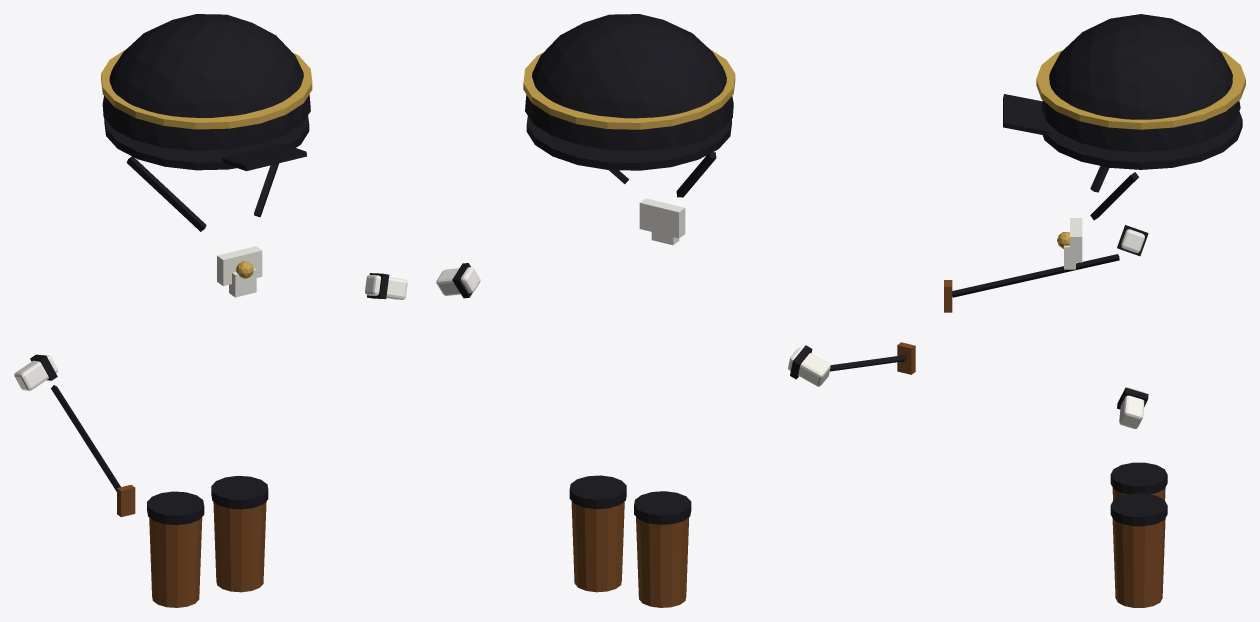
Rendered from Outfit_Horse.fbx.
The picture shows the model from 3 angles, left to right: view 1: azimuth 30°, elevation 25°; view 2: azimuth 150°, elevation 25°; view 3: azimuth 270°, elevation 25°; orthographic projection.
Parts seen in each view (by area): view 1: RidingHat__Head, BootR__shin.R, BootL__shin.L, Cravat__spine.004, Crop__hand.R, GloveR__hand.R.004, GloveL__hand.L.004; view 2: RidingHat__Head, BootL__shin.L, BootR__shin.R, Cravat__spine.004, GloveR__hand.R.004, GloveL__hand.L.004, Crop__hand.R; view 3: RidingHat__Head, BootL__shin.L, BootR__shin.R, Crop__hand.R, GloveL__hand.L.004, Cravat__spine.004, GloveR__hand.R.004.
Boxes of the visible parts, left/top/right/bottom form: RidingHat__Head: left=101, top=14, right=312, bottom=231; BootR__shin.R: left=147, top=491, right=204, bottom=607; BootL__shin.L: left=211, top=476, right=268, bottom=592; Cravat__spine.004: left=217, top=246, right=262, bottom=297; Crop__hand.R: left=51, top=385, right=135, bottom=517; GloveR__hand.R.004: left=14, top=354, right=57, bottom=390; GloveL__hand.L.004: left=365, top=273, right=407, bottom=299; RidingHat__Head: left=523, top=14, right=735, bottom=197; BootL__shin.L: left=569, top=475, right=626, bottom=592; BootR__shin.R: left=634, top=491, right=691, bottom=607; Cravat__spine.004: left=639, top=198, right=685, bottom=245; GloveR__hand.R.004: left=788, top=345, right=830, bottom=386; GloveL__hand.L.004: left=436, top=263, right=480, bottom=298; Crop__hand.R: left=829, top=342, right=915, bottom=374; RidingHat__Head: left=1003, top=14, right=1245, bottom=220; BootL__shin.L: left=1110, top=493, right=1167, bottom=607; BootR__shin.R: left=1110, top=462, right=1167, bottom=500; Crop__hand.R: left=944, top=254, right=1119, bottom=312; GloveL__hand.L.004: left=1117, top=387, right=1148, bottom=428; Cravat__spine.004: left=1057, top=218, right=1082, bottom=269; GloveR__hand.R.004: left=1117, top=225, right=1148, bottom=256.
Bounding box in the file's own units: 1.08 × 1.52 × 0.743.
